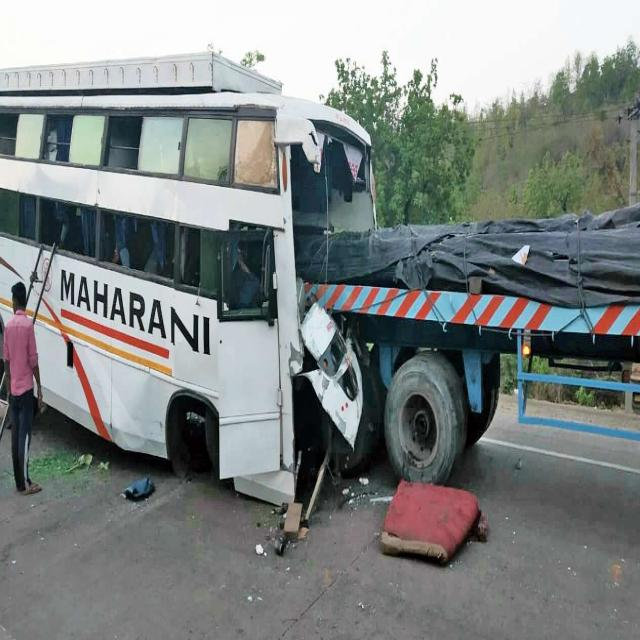accident: (0, 54, 375, 503), (296, 206, 640, 481)
